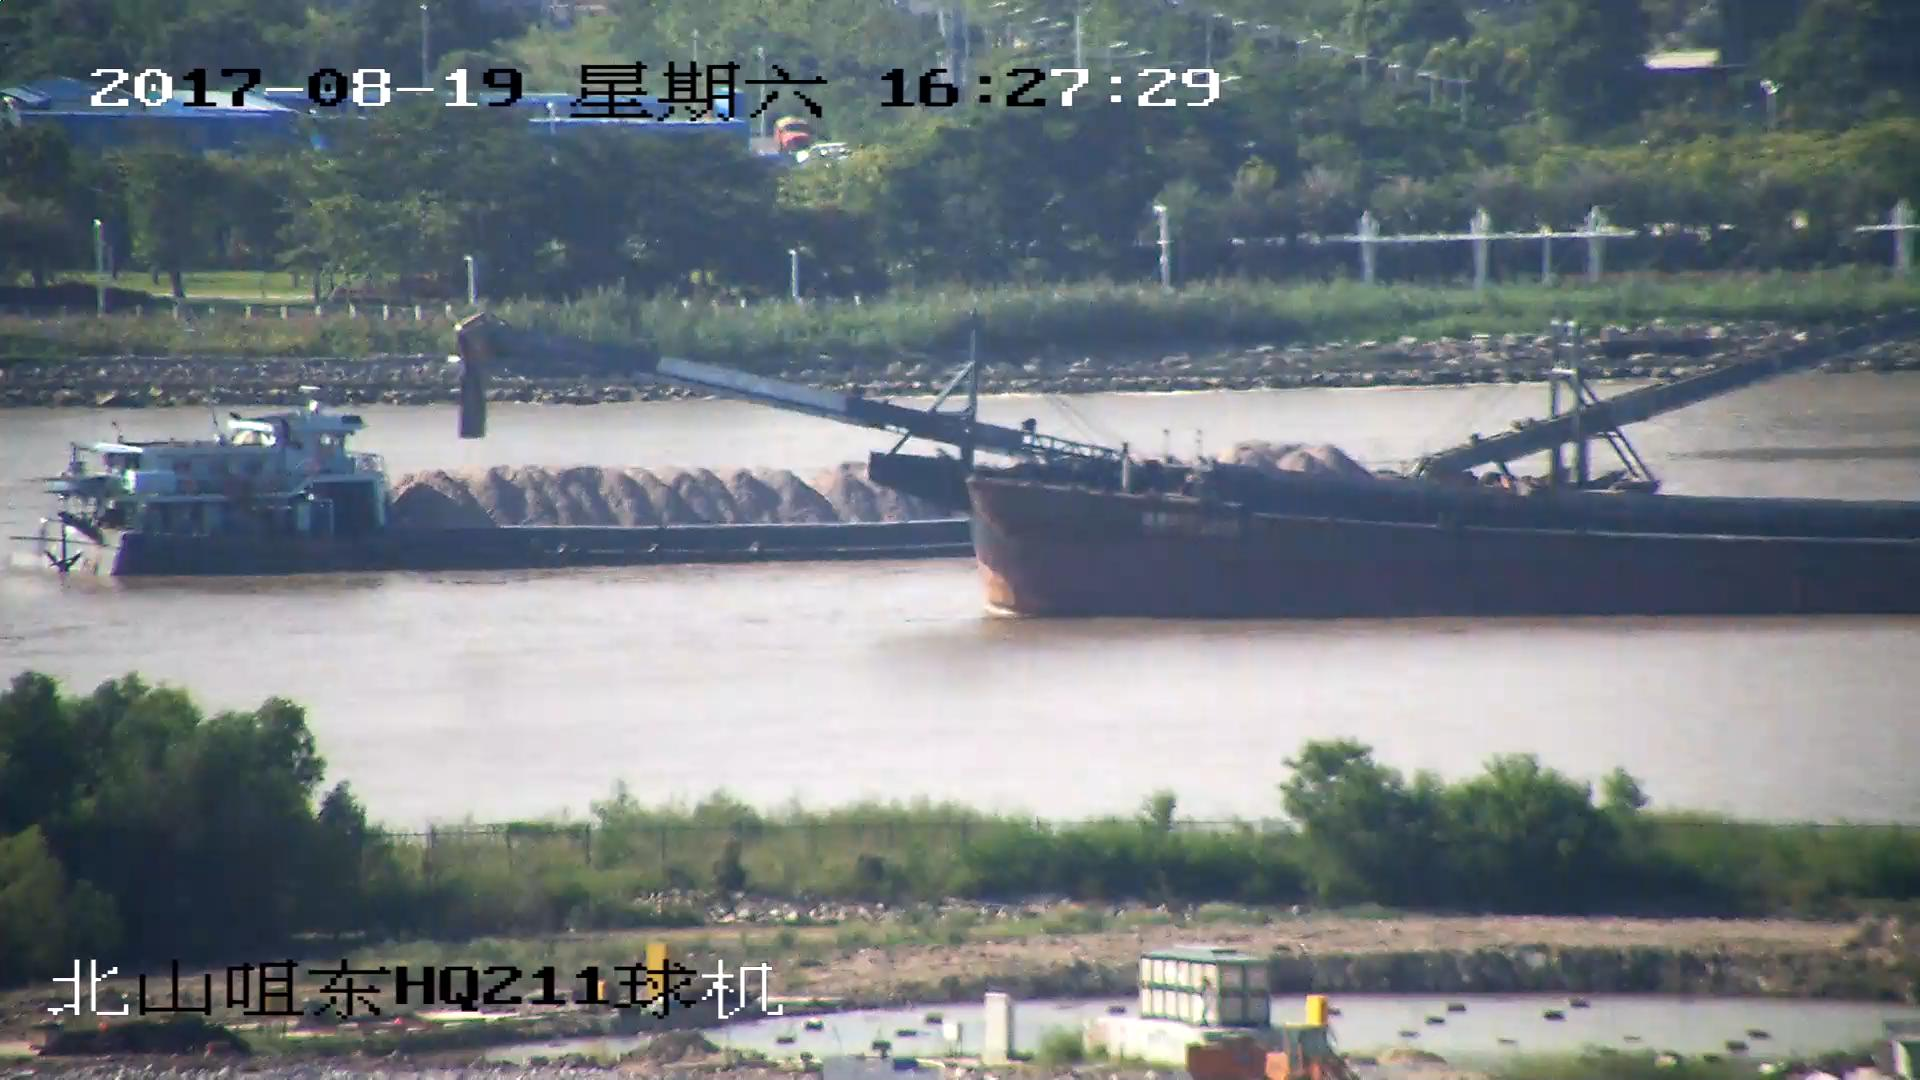bulk cargo carrier: (452, 321, 1920, 623)
ore carrier: (48, 307, 1920, 579)
